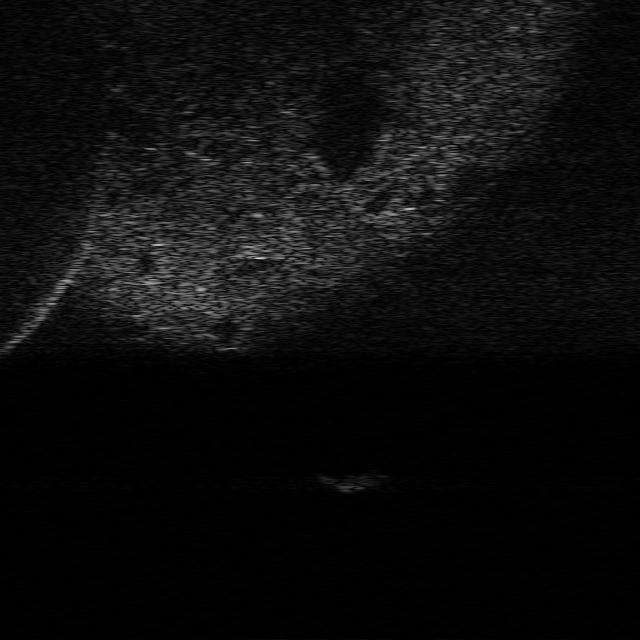cube: (319, 466, 385, 493)
